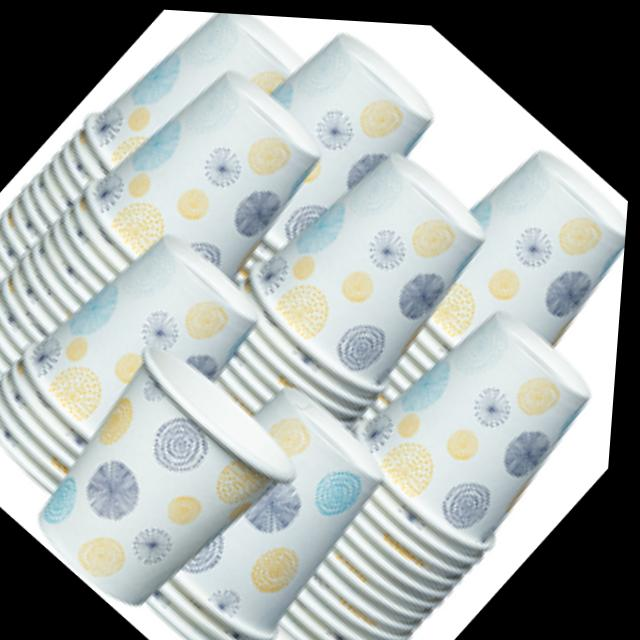paper_cups: (8, 324, 328, 640), (229, 114, 523, 410), (64, 34, 349, 322), (343, 276, 625, 567), (131, 363, 427, 640), (63, 3, 254, 187)
